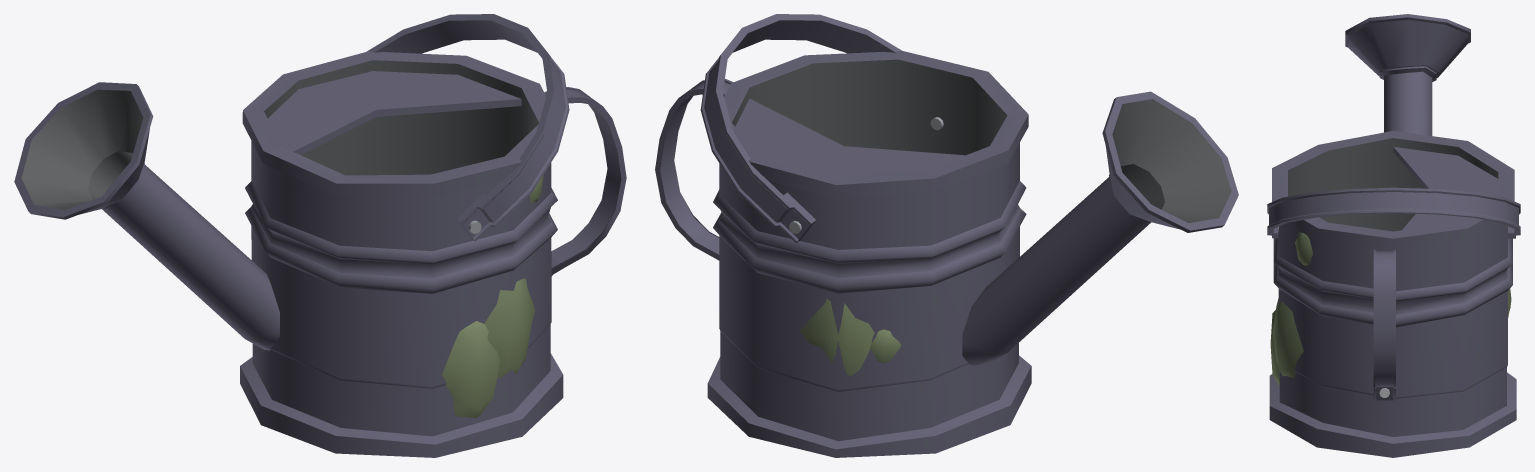
Rendered from P_WateringCan_LD.fbx.
3 views of the same model, side by side, from view 1: azimuth 30°, elevation 25°; view 2: azimuth 150°, elevation 25°; view 3: azimuth 270°, elevation 25° (orthographic). The views are drawn at different scales.
Parts seen in each view (by area): view 1: P_WateringCan; view 2: P_WateringCan; view 3: P_WateringCan.
Part boxes in pixels (x1,y1,x2,y2): P_WateringCan: (14, 14, 626, 457); P_WateringCan: (655, 14, 1238, 457); P_WateringCan: (1267, 14, 1520, 457).
Size of the model in its own units: 102 by 61 by 48.4.
Materials: 1 (1 with a texture image).
